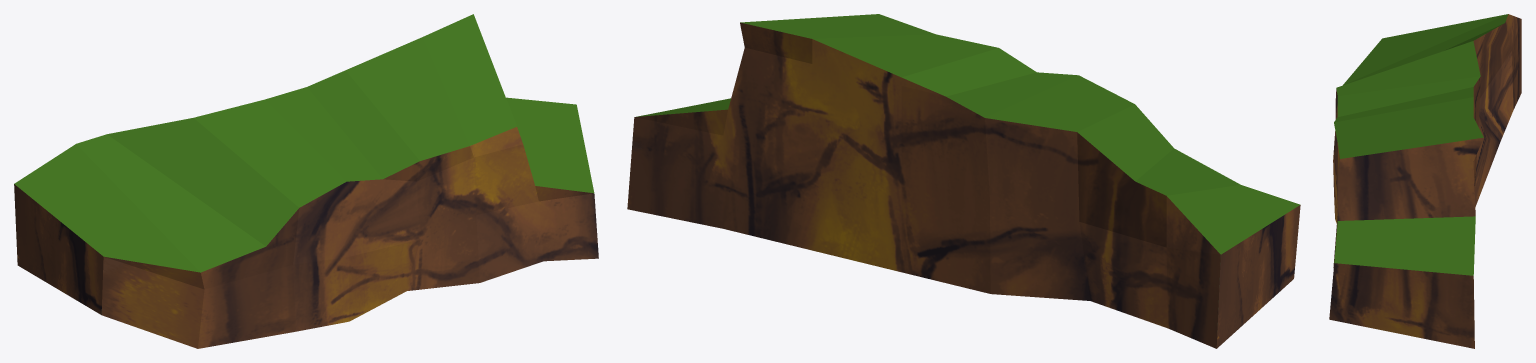
The model's file is sali103.obj.
3 views of the same model, side by side, from view 1: azimuth 30°, elevation 25°; view 2: azimuth 150°, elevation 25°; view 3: azimuth 270°, elevation 25° (orthographic). The views are drawn at different scales.
Parts seen in each view (by area): view 1: Plane.060_Plane.066; view 2: Plane.060_Plane.066; view 3: Plane.060_Plane.066.
Boxes of the visible parts, x1,y1,x2,y2 form: Plane.060_Plane.066: (14, 14, 598, 348); Plane.060_Plane.066: (627, 14, 1300, 348); Plane.060_Plane.066: (1329, 14, 1521, 348).
Bounding box in the file's own units: 147 × 50.42 × 51.47.
1 material, 1 textured.
